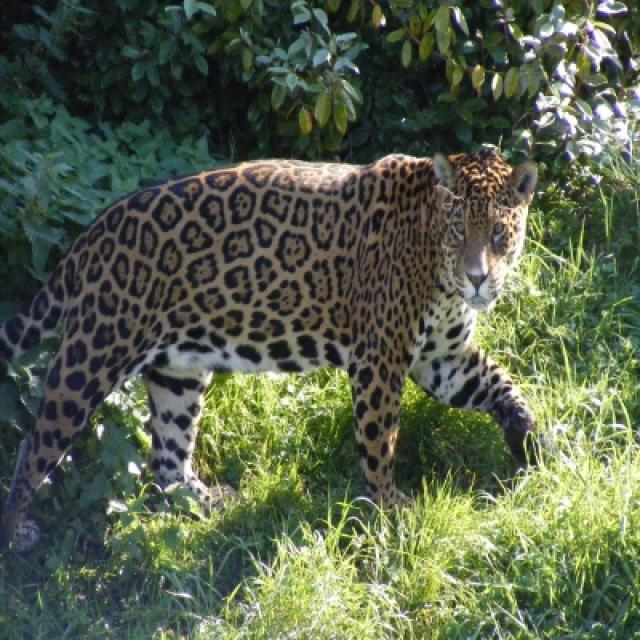Jaguar: (0, 146, 539, 552)
